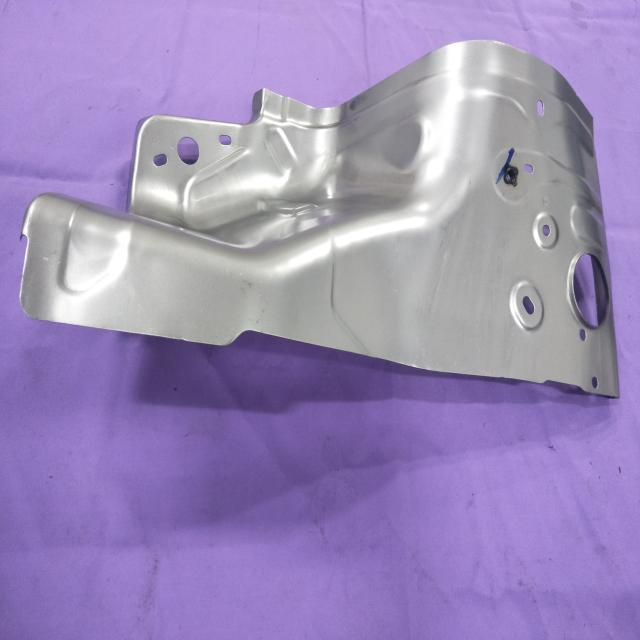Healthy: (19, 38, 620, 401)
